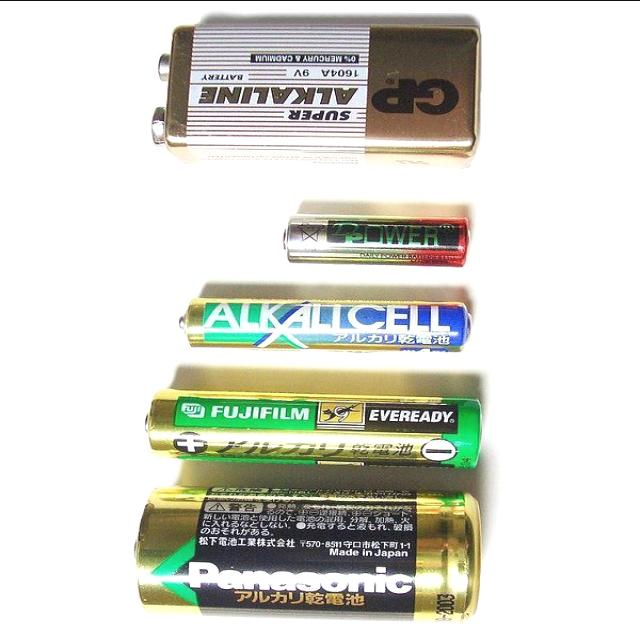AA: (139, 385, 487, 469)
AAA: (175, 292, 477, 353)
